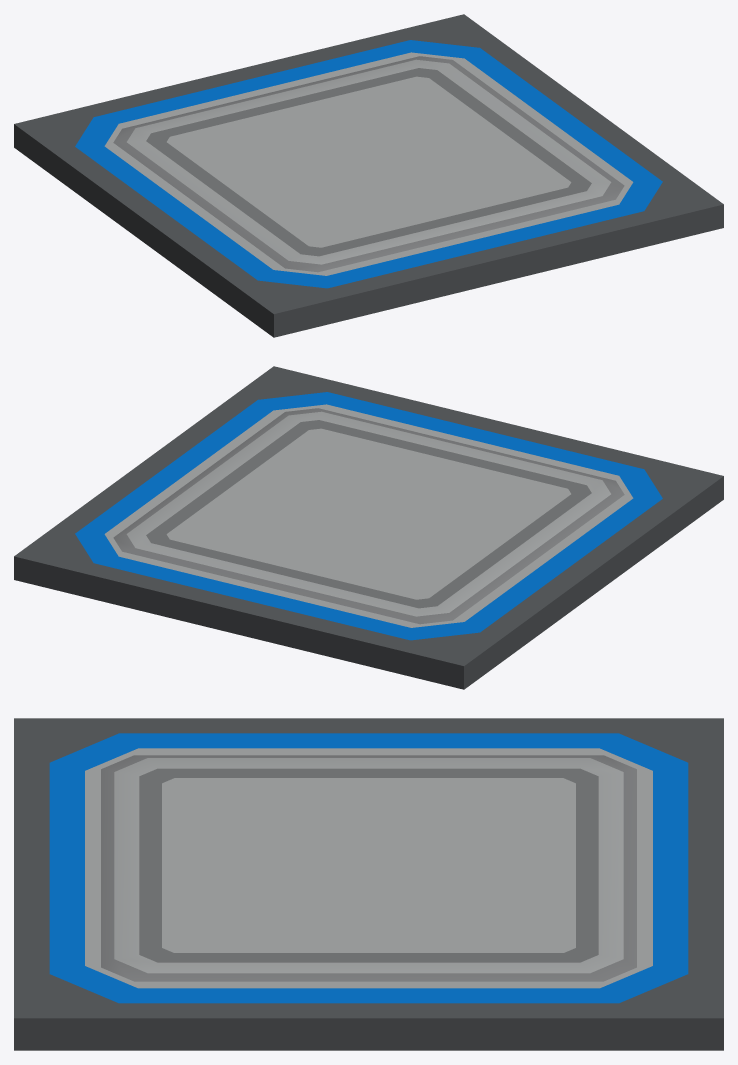
File: Platform_005.glb
3 renders of one model, top to bottom at view 1: azimuth 30°, elevation 25°; view 2: azimuth 150°, elevation 25°; view 3: azimuth 270°, elevation 25°, orthographic. The views are drawn at different scales.
Parts seen in each view (by area): view 1: Platform_005; view 2: Platform_005; view 3: Platform_005.
Boxes of the visible parts, x1,y1,x2,y2 form: Platform_005: (14,14,723,337); Platform_005: (14,366,723,689); Platform_005: (14,718,723,1050).
Bounding box in the file's own units: 4 × 0.2345 × 4.
2 materials, 2 textured.
